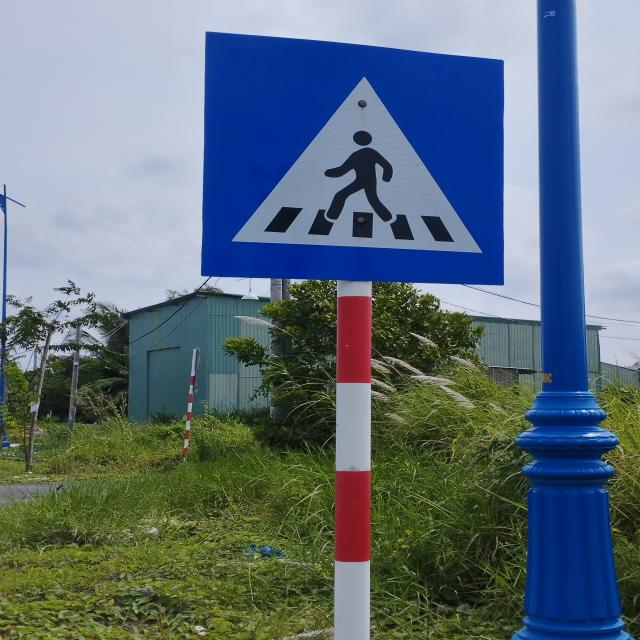Giao_Nhau_Duong_Uu_Tien: (203, 31, 506, 284)
